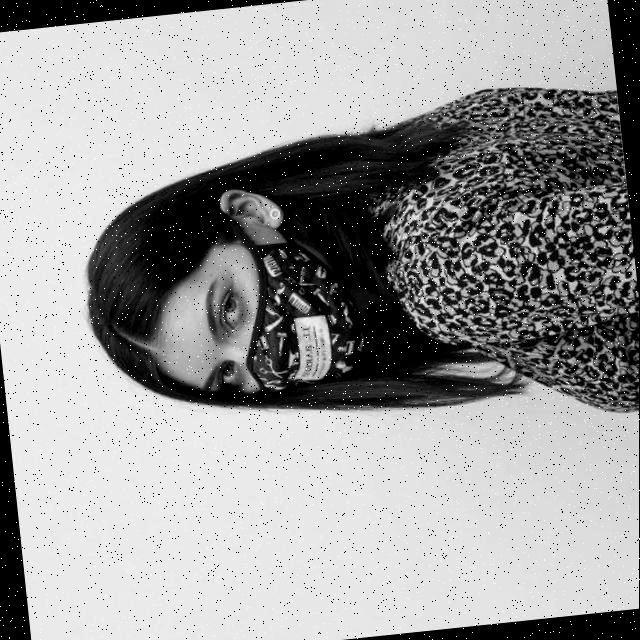mask: (250, 256, 372, 392)
no_gloves: (67, 164, 191, 368)
